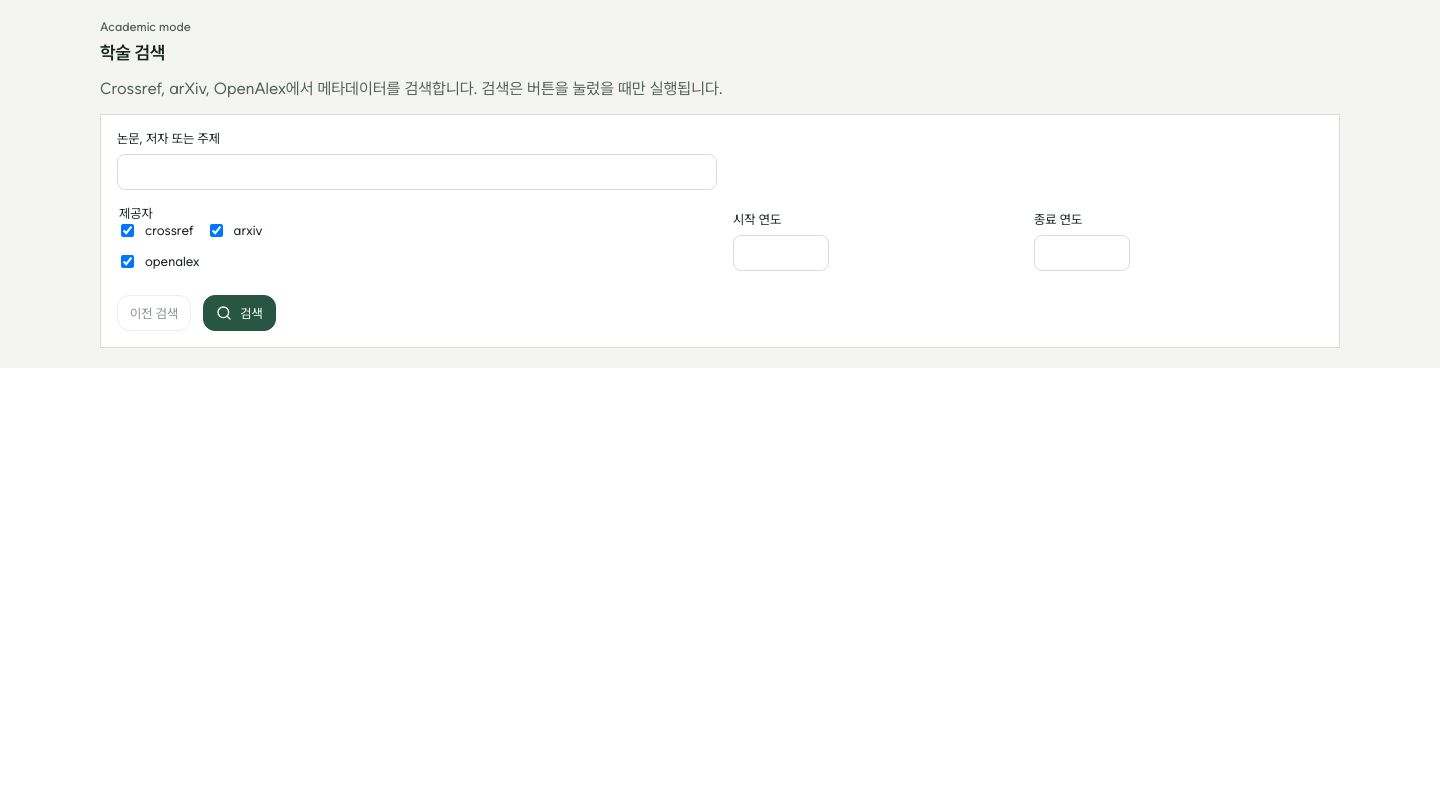
it: SearchView › saves metadata on the explicit library action
The image size is (1440, 810).
Type "metadata" into the search field at (417, 172), box [117,154,717,190]
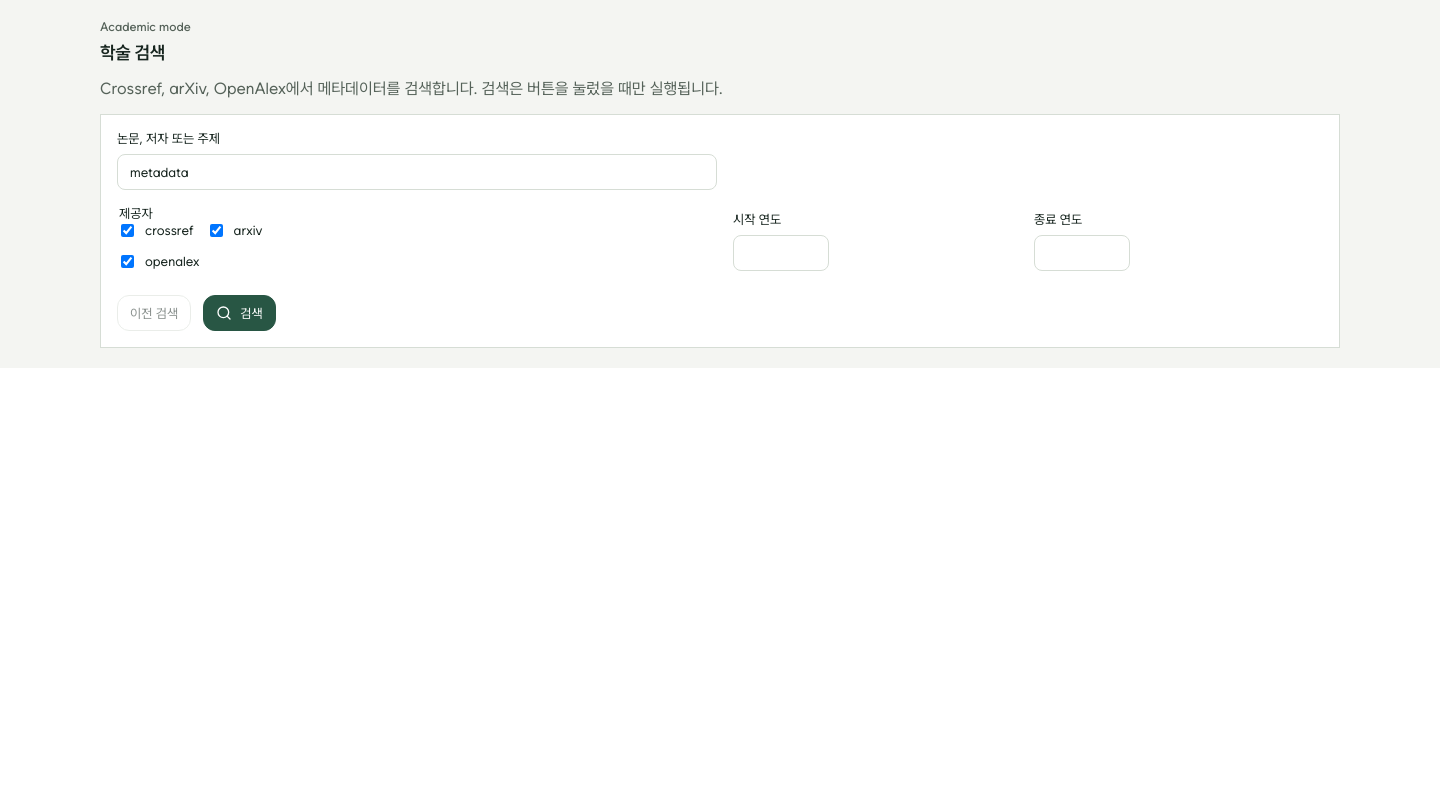
Click the button "검색" at (239, 313), box [203,295,276,331]
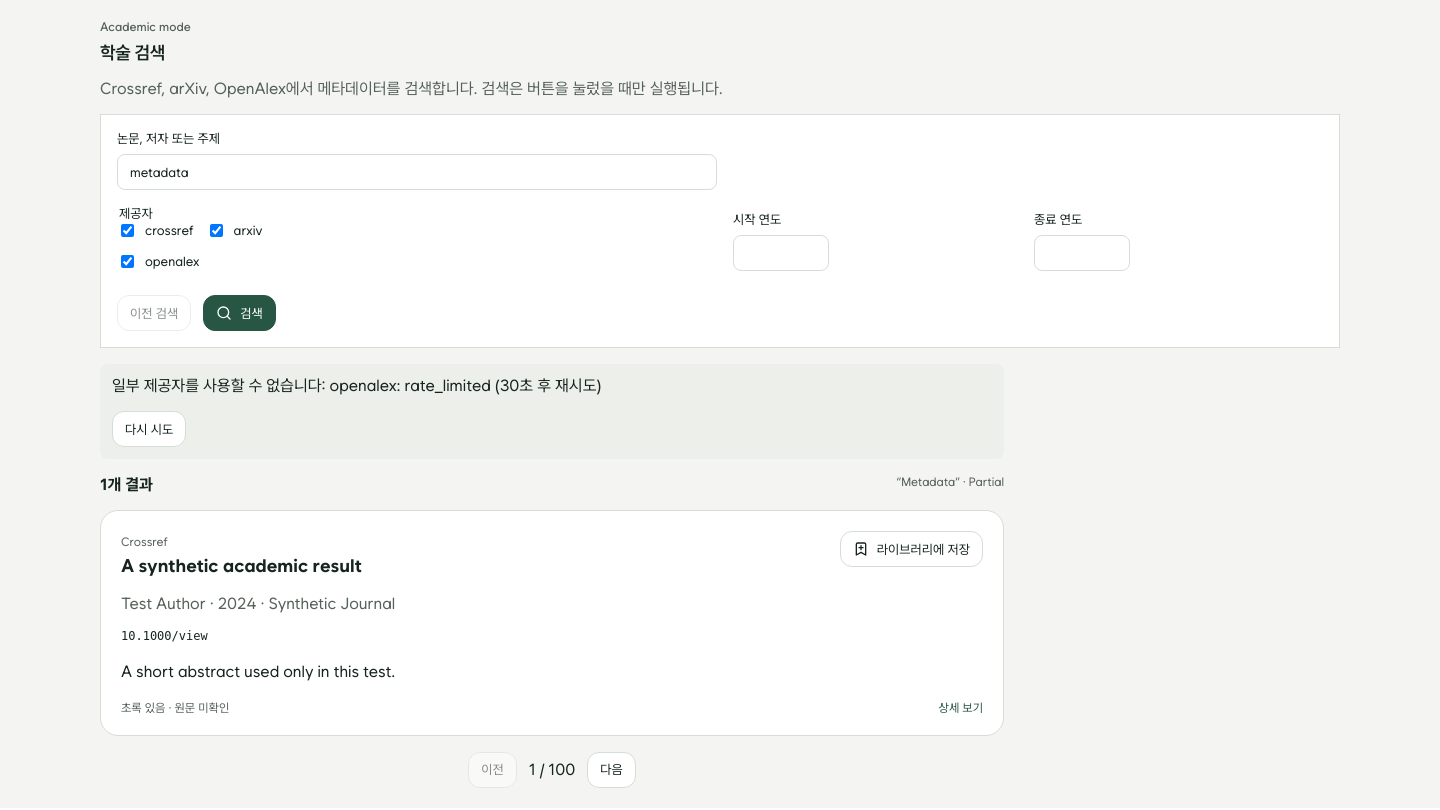
Check: the heading "A synthetic academic result" is shown, box [121,554,362,578]
Click the button "라이브러리에 저장" at (911, 549), box [840,531,983,567]
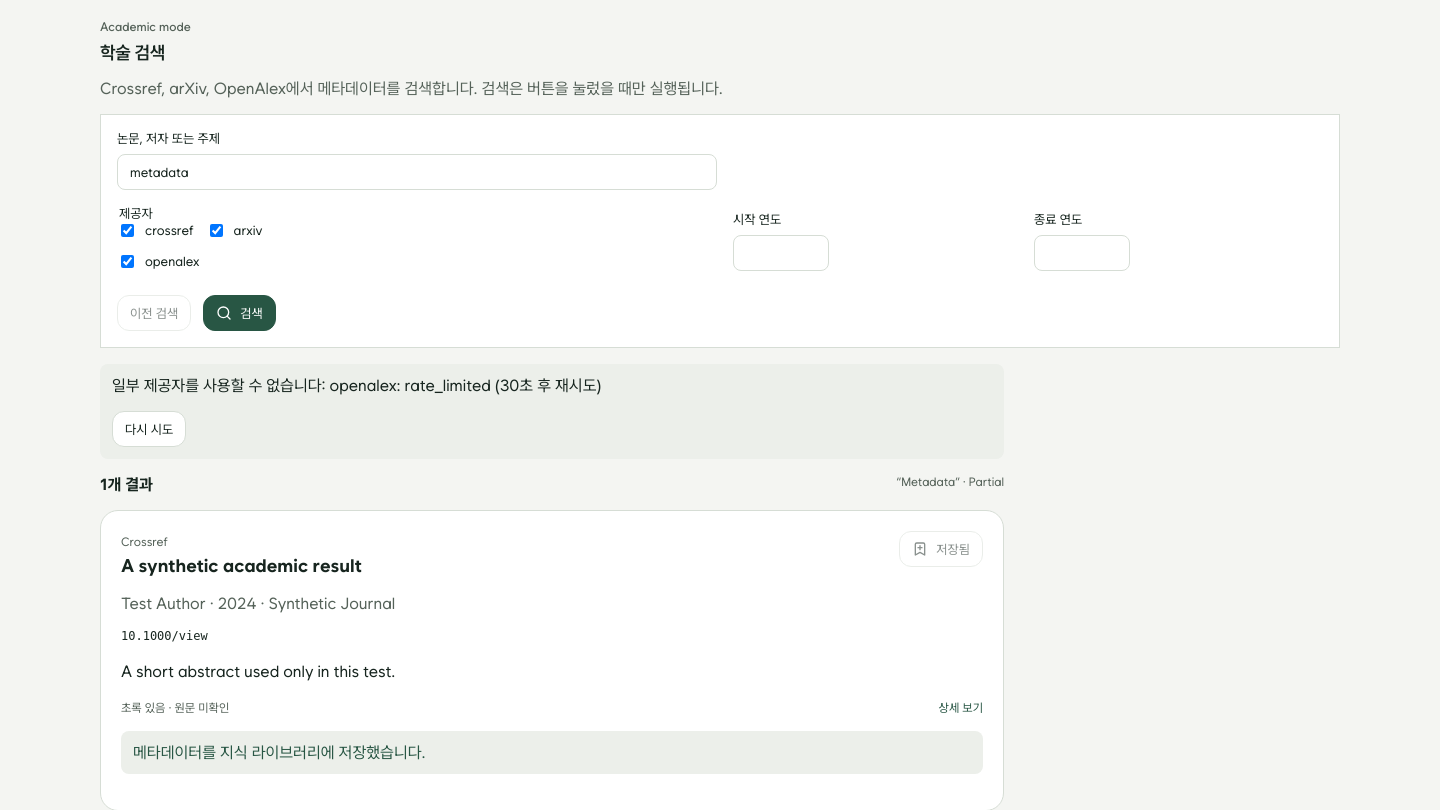
Check: the text "메타데이터를 지식 라이브러리에 저장했습니다." is shown, box [121,731,983,774]
